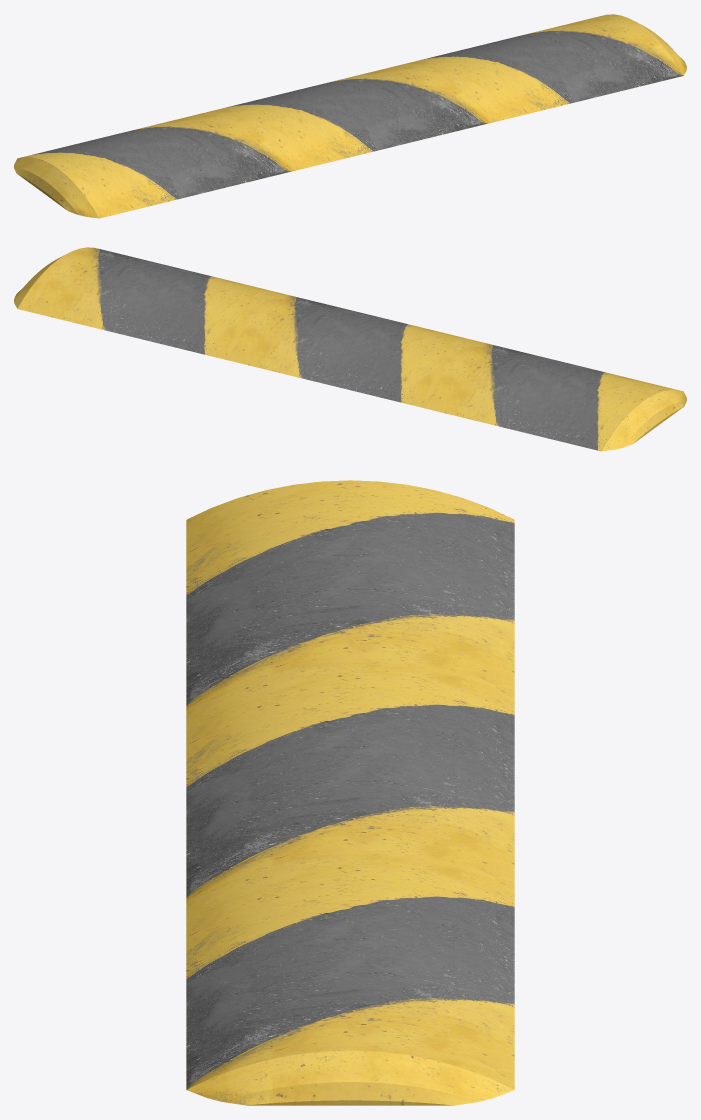
The model's file is Bump_3_short.dae.
3 renders of one model, top to bottom at view 1: azimuth 30°, elevation 25°; view 2: azimuth 150°, elevation 25°; view 3: azimuth 270°, elevation 25°, orthographic. The views are drawn at different scales.
Parts seen in each view (by area): view 1: group_1, group_3, group_2; view 2: group_1, group_3, group_2; view 3: group_1, group_2.
Part boxes in pixels (x1,y1,x2,y2): group_1: (21, 14, 683, 218); group_3: (14, 157, 99, 218); group_2: (637, 22, 686, 75); group_1: (17, 247, 679, 451); group_3: (601, 390, 686, 451); group_2: (14, 255, 63, 308); group_1: (186, 480, 514, 1089); group_2: (187, 1050, 513, 1105).
Bounding box in the file's own units: 101 × 23.23 × 3.07.
